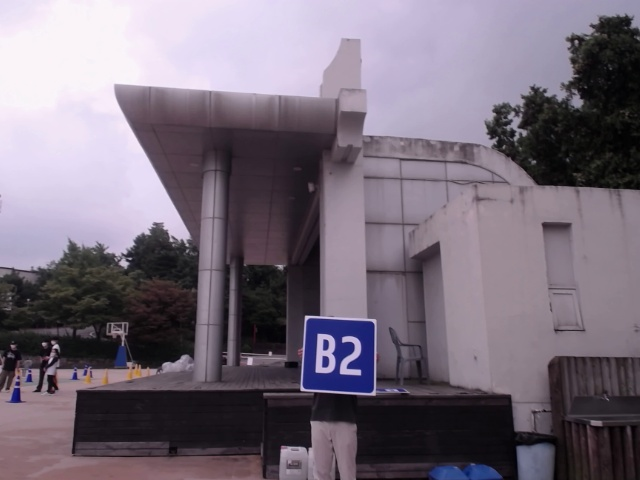delivery_b2: (304, 317, 376, 395)
